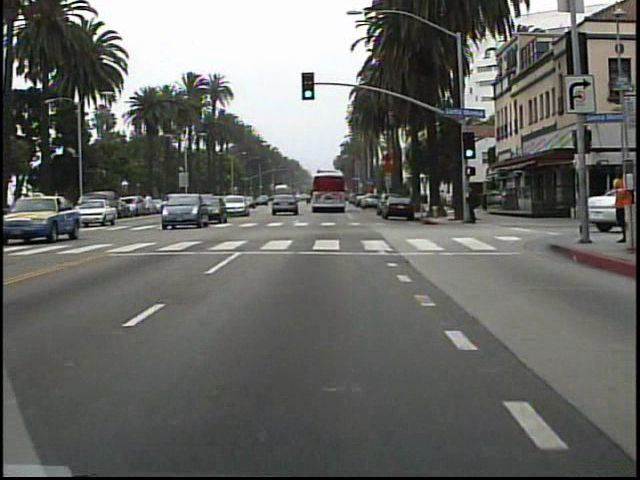person: (593, 163, 624, 245), (463, 181, 479, 228)
